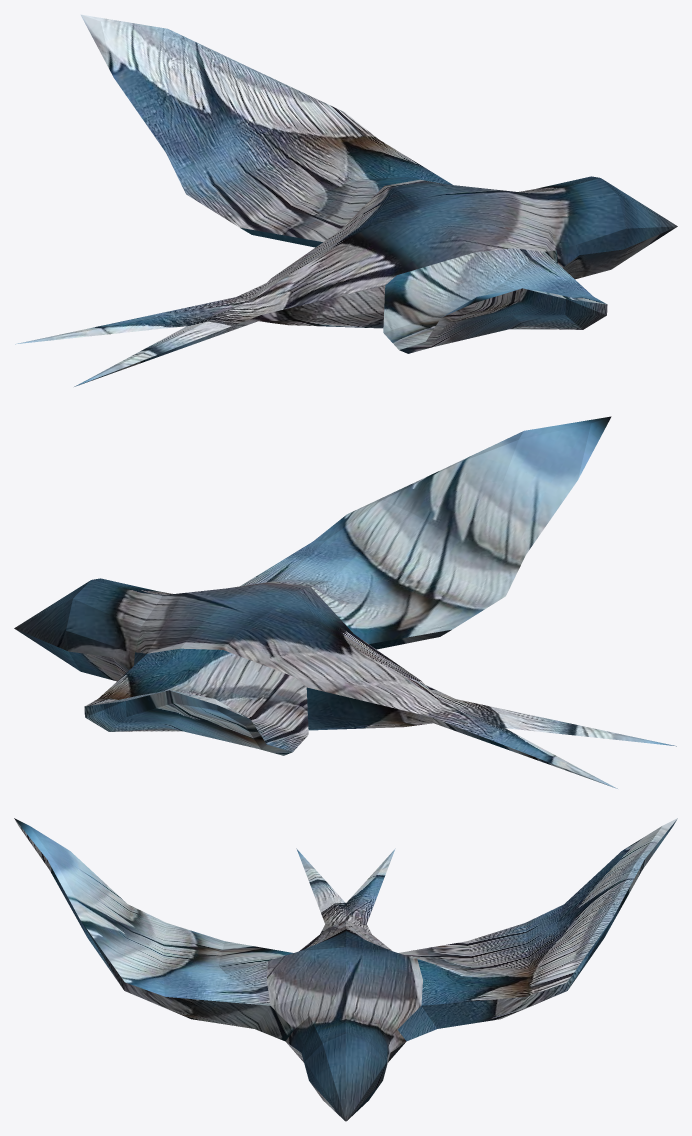
The model's file is bird.obj.
3 renders of one model, top to bottom at view 1: azimuth 30°, elevation 25°; view 2: azimuth 150°, elevation 25°; view 3: azimuth 270°, elevation 25°, orthographic. The views are drawn at different scales.
Parts seen in each view (by area): view 1: Bird; view 2: Bird; view 3: Bird.
Boxes of the visible parts, bbox=[...] form: Bird: bbox=[15, 14, 677, 386]; Bird: bbox=[14, 416, 676, 788]; Bird: bbox=[14, 818, 677, 1121].
Bounding box in the file's own units: 18.22 × 5.6 × 19.61.
